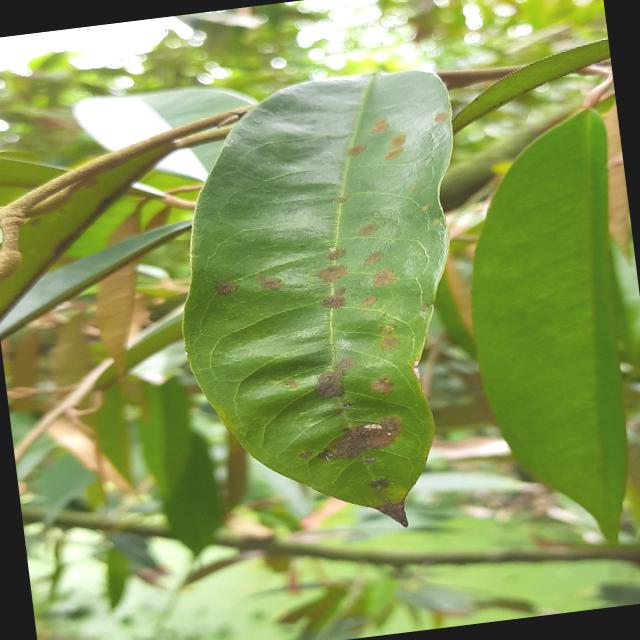Algal Leaf Spot: (142, 52, 508, 560)
